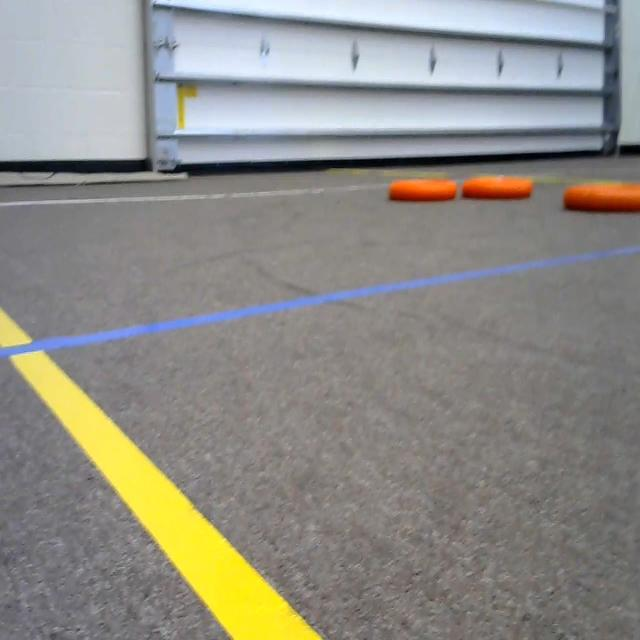note: (559, 169, 640, 215), (384, 163, 458, 210), (462, 172, 541, 204)
